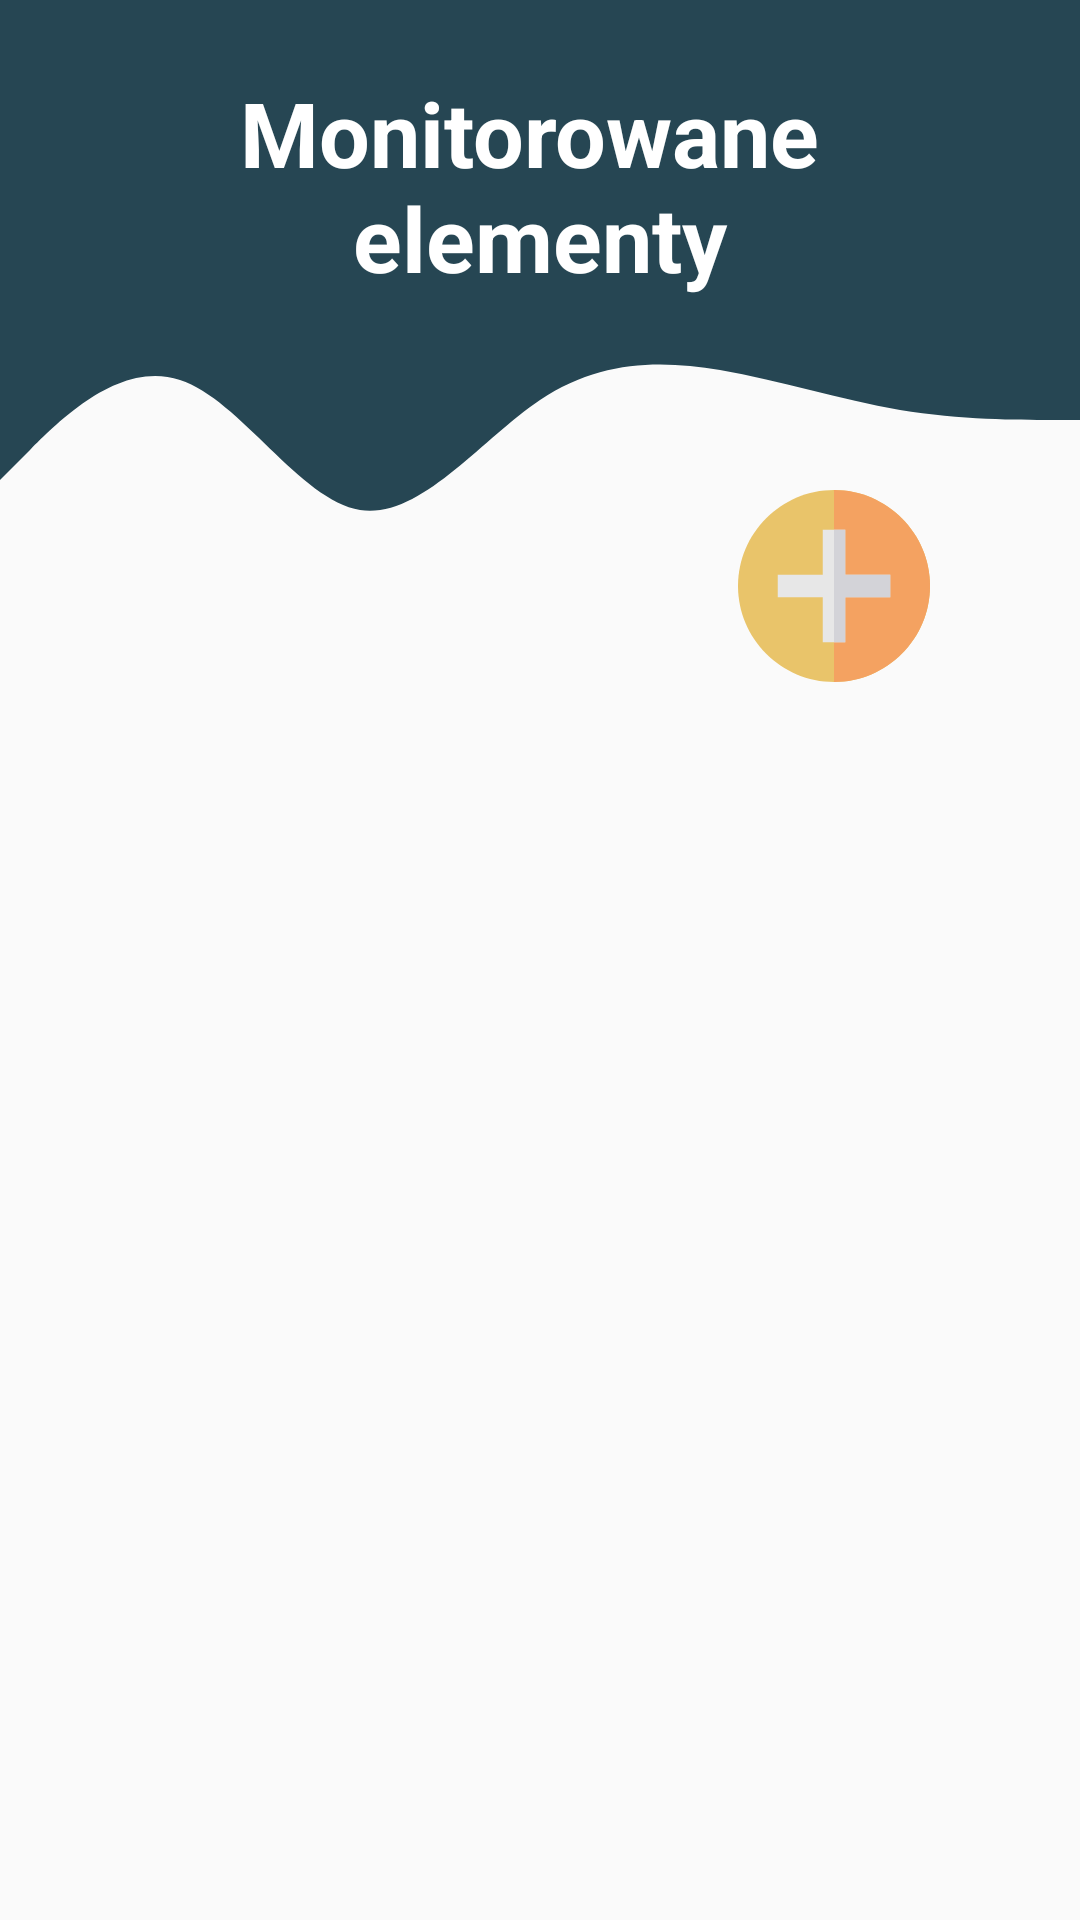

Point at icon controls on the screen. Image size 1080 × 1920, points as (x=x, y=y).
add: (x=834, y=586)
